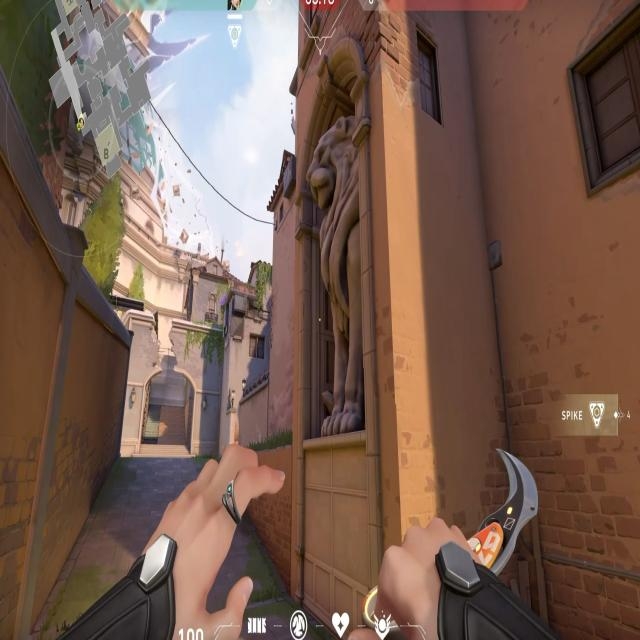Lion_Corner: (294, 32, 374, 444)
